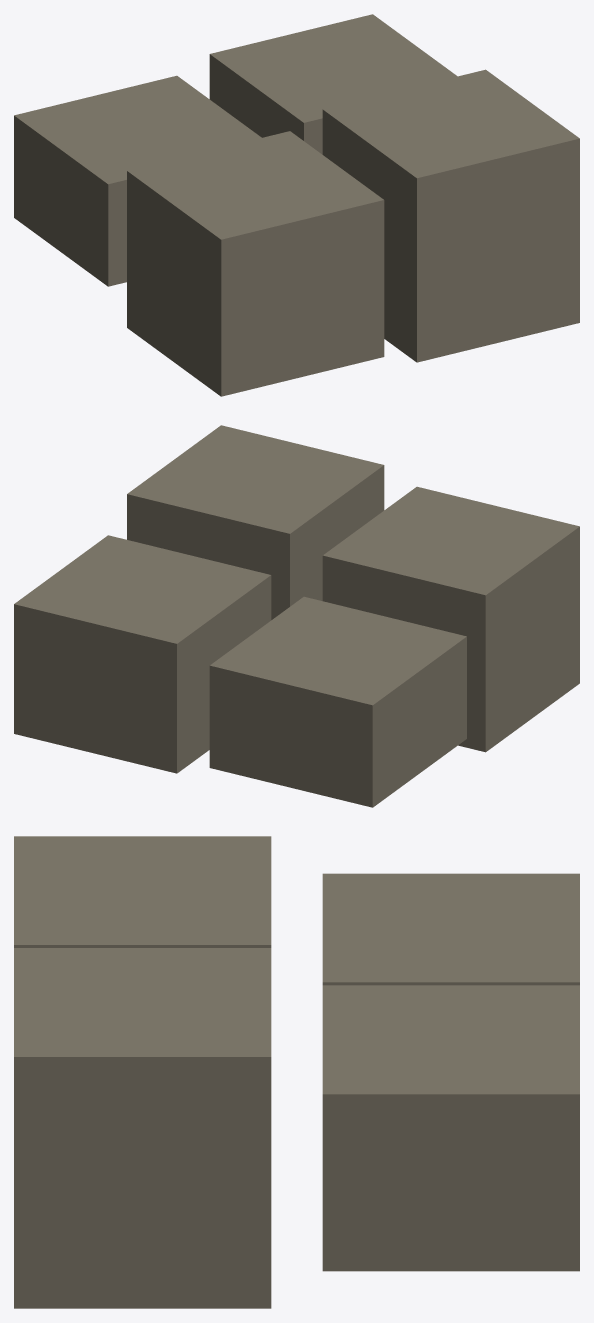
File: rubble-closed.glb
The picture shows the model from 3 angles, top to bottom: view 1: azimuth 30°, elevation 25°; view 2: azimuth 150°, elevation 25°; view 3: azimuth 270°, elevation 25°; orthographic projection. The views are drawn at different scales.
Parts seen in each view (by area): view 1: rubble-closed; view 2: rubble-closed; view 3: rubble-closed.
Part boxes in pixels (x1,y1,x2,y2): rubble-closed: (14, 14, 579, 396); rubble-closed: (14, 425, 579, 807); rubble-closed: (14, 836, 579, 1308).
Size of the model in its own units: 0.55 by 0.27 by 0.55.
